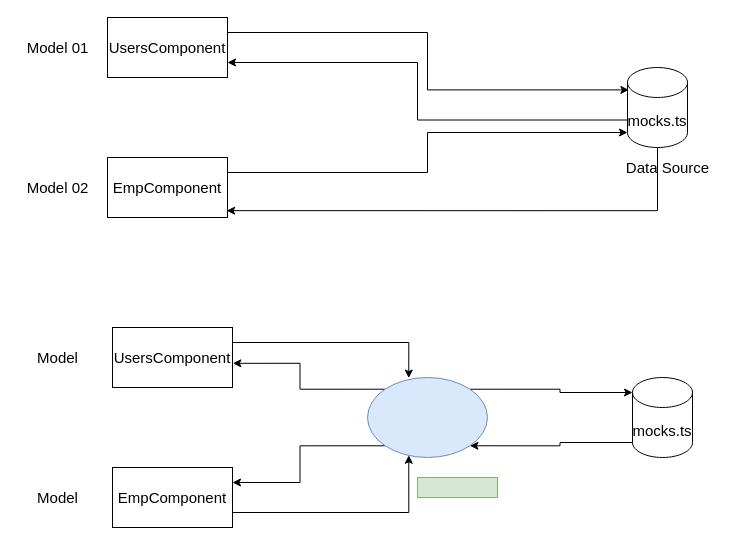
This 734x545 diagram has some shape labels left out. The shapes that lost their labels are listed below. From the top down, each one's centre as x and y in pixels, then its label:
the point at 427,417: Service DataService
the point at 457,487: Singleton
